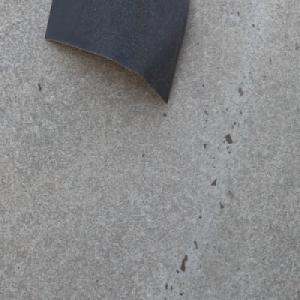PaintChip: (43, 0, 191, 103)
